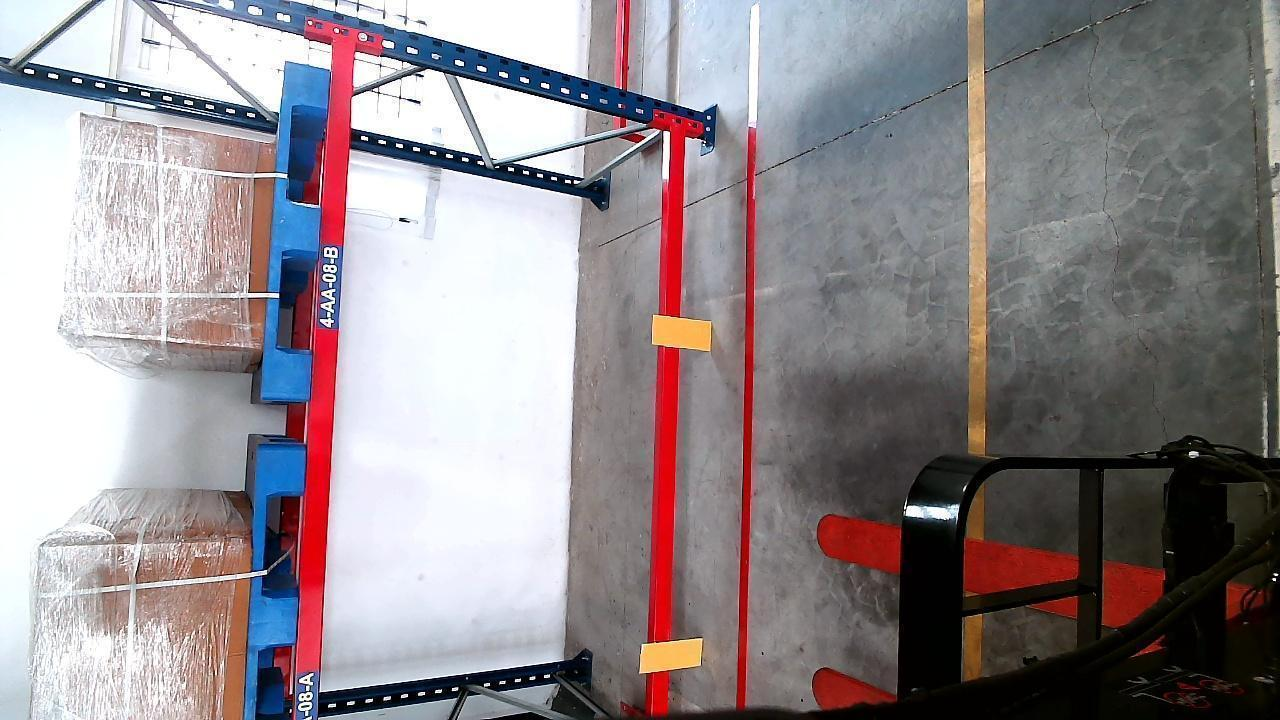red_line: (735, 126, 759, 706)
yellow_line: (966, 0, 992, 446)
